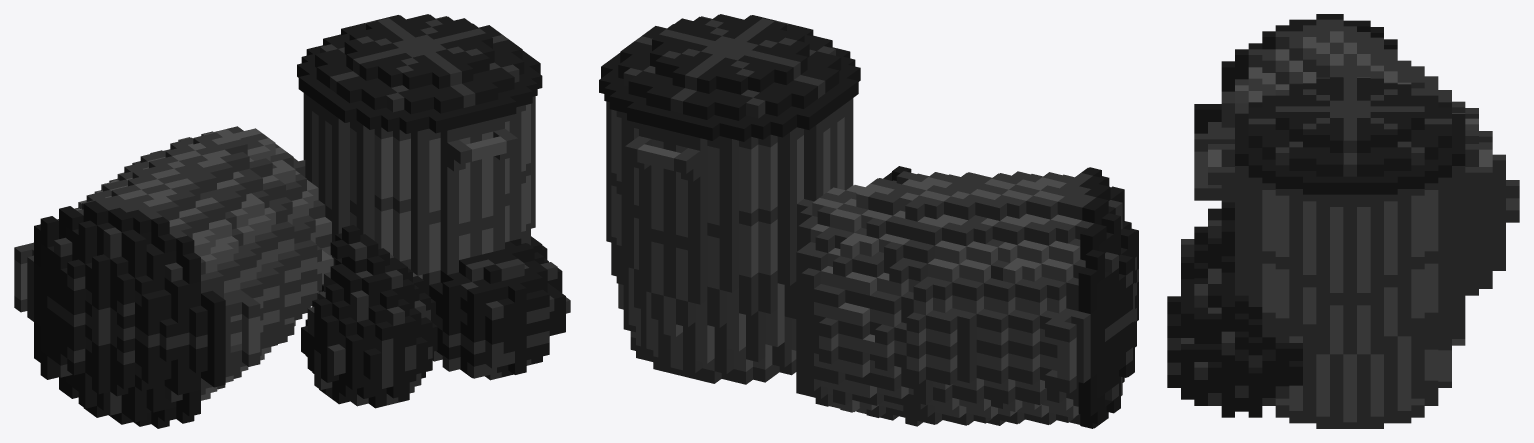
The model's file is tresh_1.obj.
The picture shows the model from 3 angles, left to right: view 1: azimuth 30°, elevation 25°; view 2: azimuth 150°, elevation 25°; view 3: azimuth 270°, elevation 25°; orthographic projection. The views are drawn at different scales.
Size of the model in its own units: 4 by 2.3 by 2.6.
Materials: 1 (1 with a texture image).
